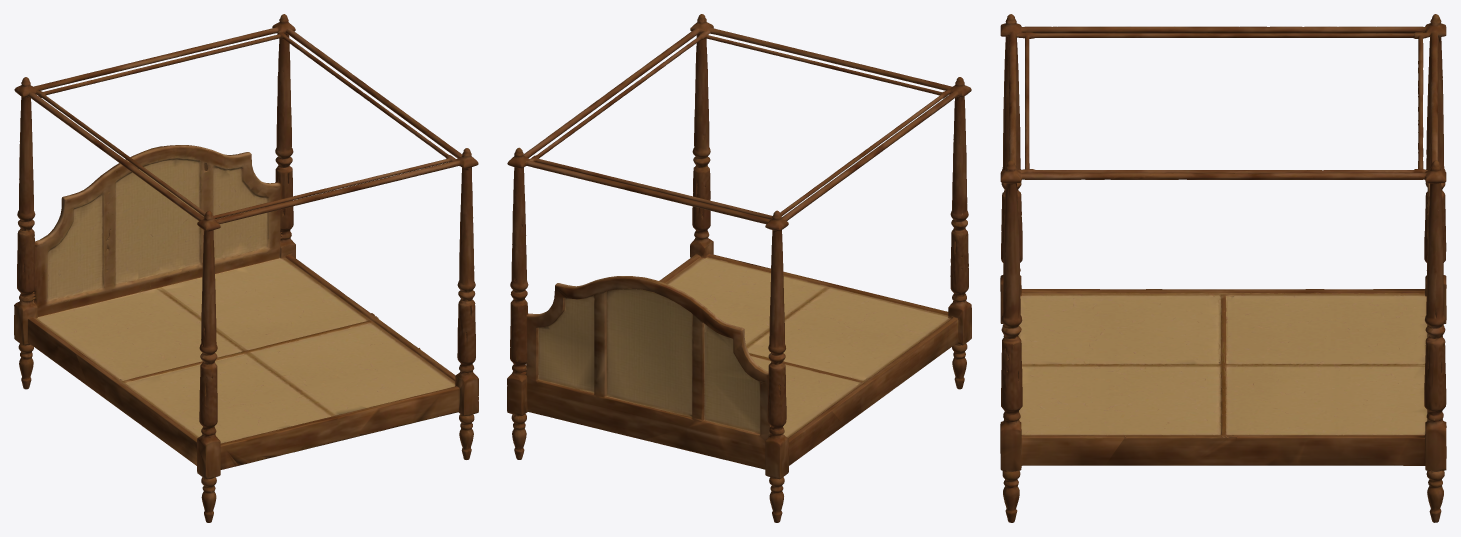
Rendered from carved-canopy-bed.glb.
The picture shows the model from 3 angles, left to right: view 1: azimuth 30°, elevation 25°; view 2: azimuth 150°, elevation 25°; view 3: azimuth 270°, elevation 25°; orthographic projection. The views are drawn at different scales.
Parts seen in each view (by area): view 1: world; view 2: world; view 3: world.
Boxes of the visible parts, x1=… form: world: x1=14, y1=14, x2=478, y2=522; world: x1=507, y1=14, x2=971, y2=522; world: x1=1000, y1=14, x2=1446, y2=522.
Size of the model in its own units: 0.8265 by 0.8981 by 1.
Materials: 1 (1 with a texture image).
